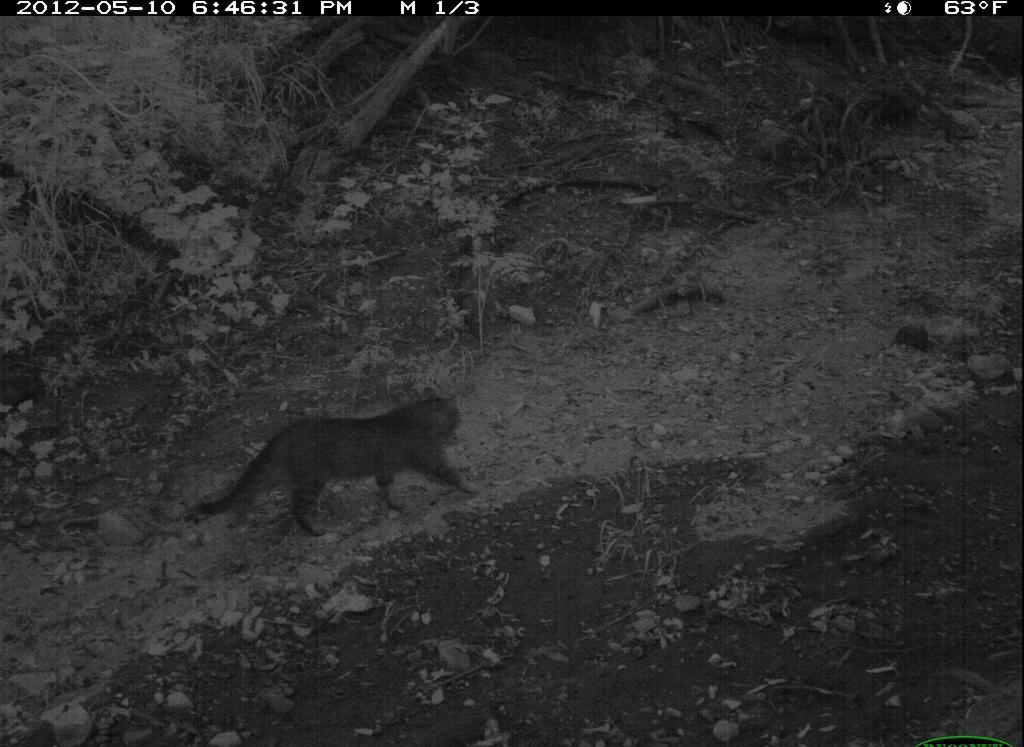cat: (187, 374, 475, 550)
